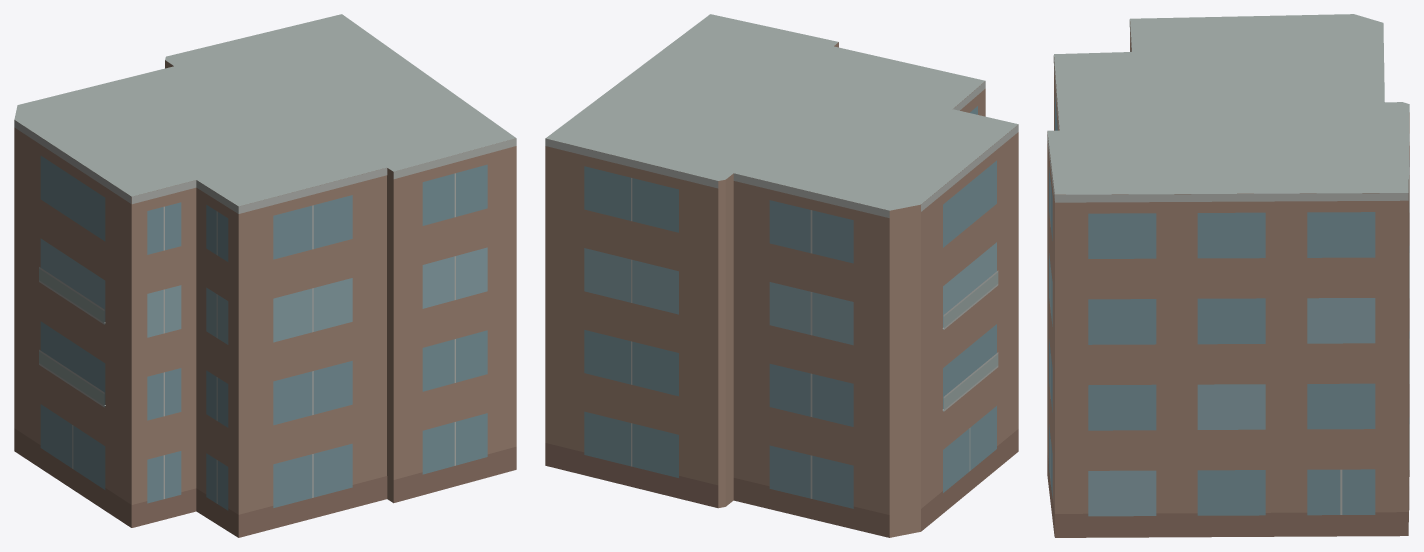
File: survey-upis-32605396.glb
3 renders of one model, left to right at view 1: azimuth 30°, elevation 25°; view 2: azimuth 150°, elevation 25°; view 3: azimuth 270°, elevation 25°, orthographic. The views are drawn at different scales.
Parts seen in each view (by area): view 1: survey-upis-32605396.tmp; view 2: survey-upis-32605396.tmp; view 3: survey-upis-32605396.tmp.
Part boxes in pixels (<box>): survey-upis-32605396.tmp: <box>14,14,516,537</box>; survey-upis-32605396.tmp: <box>545,14,1018,537</box>; survey-upis-32605396.tmp: <box>1047,14,1409,537</box>.
Bounding box in the file's own units: 11.97 × 10.59 × 10.14.
